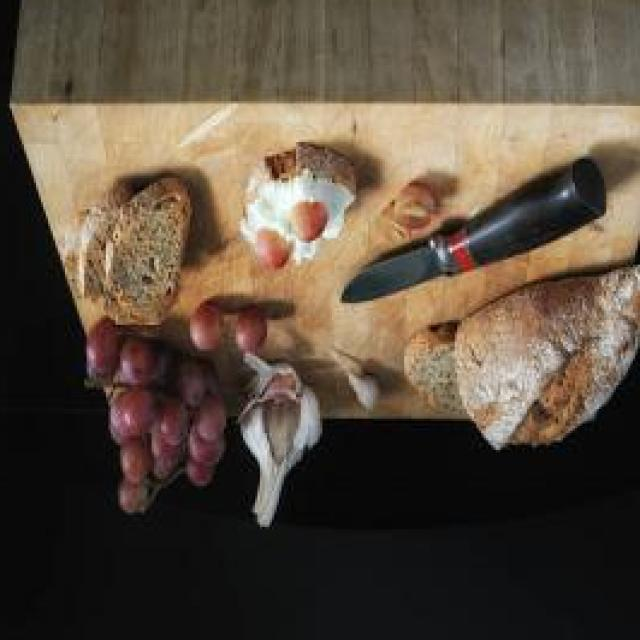knife: (339, 157, 611, 306)
